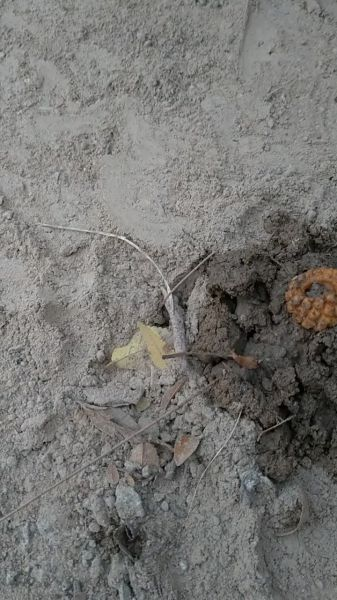eggs: (280, 264, 337, 338)
